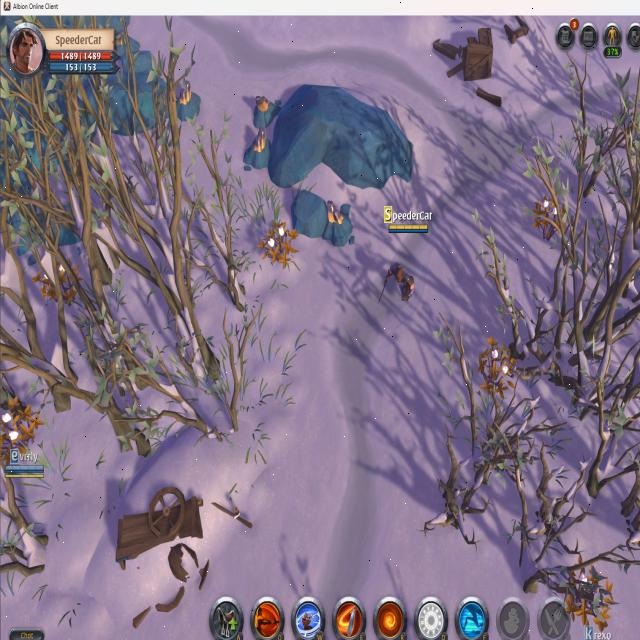copper: (324, 196, 354, 248), (242, 124, 272, 173), (172, 76, 202, 122), (249, 94, 281, 128)
cotton: (562, 552, 614, 634), (0, 396, 42, 468), (476, 333, 517, 401), (32, 258, 79, 307), (258, 219, 299, 270), (532, 194, 566, 249)
